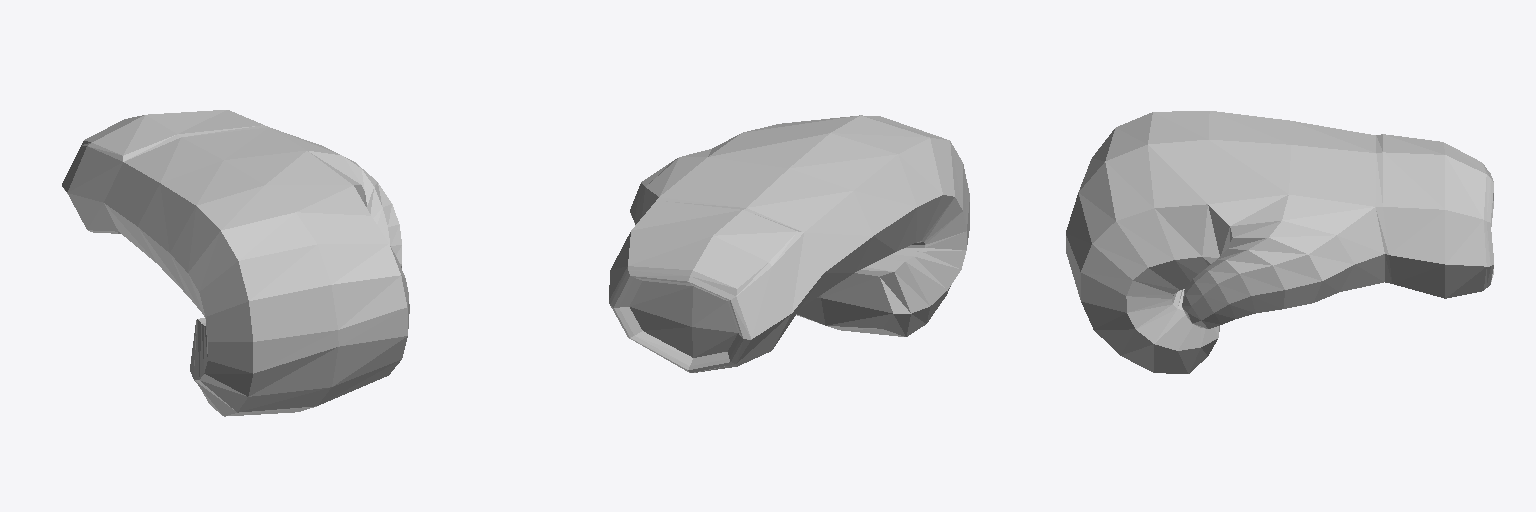
File: BoxingGlove.obj
3 views of the same model, side by side, from view 1: azimuth 30°, elevation 25°; view 2: azimuth 150°, elevation 25°; view 3: azimuth 270°, elevation 25° (orthographic).
Visible parts, largest first — view 1: boxingGlove; view 2: boxingGlove; view 3: boxingGlove.
Boxes of the visible parts, x1=… form: boxingGlove: x1=62, y1=110, x2=409, y2=416; boxingGlove: x1=609, y1=115, x2=969, y2=372; boxingGlove: x1=1066, y1=111, x2=1493, y2=373.
Size of the model in its own units: 0.1488 by 0.1192 by 0.2241.